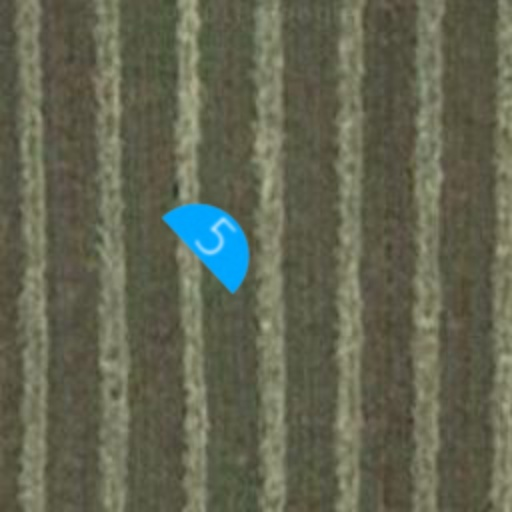semicircle: (142, 164, 290, 312)
